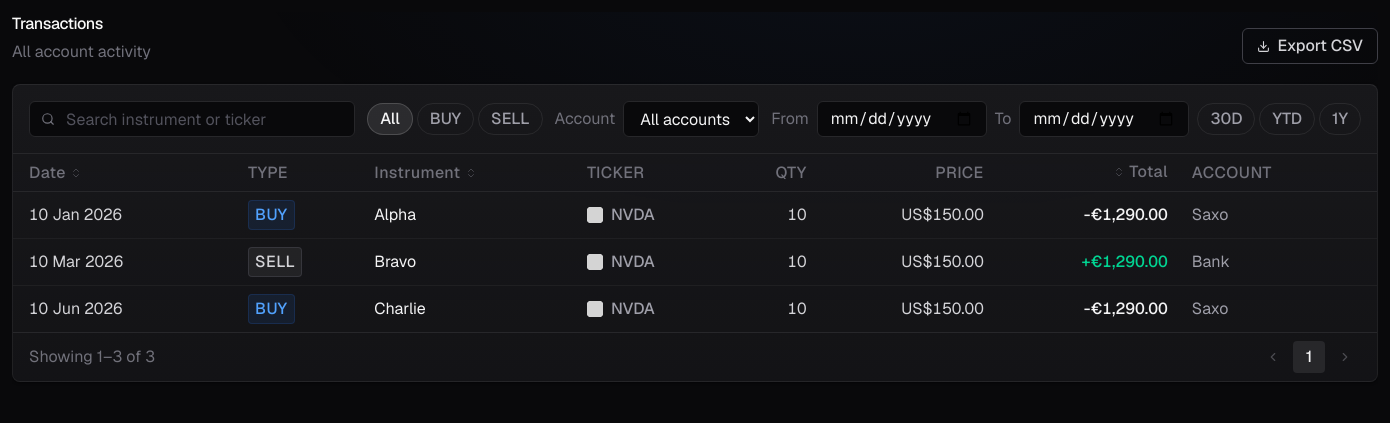
Transactions filters › edits the search text mid-word, mirrors it to the URL and empties both on Clear filters
In the field labelled "Search instrument or ticker": (192, 119) [29,101,355,137], type "AAL"
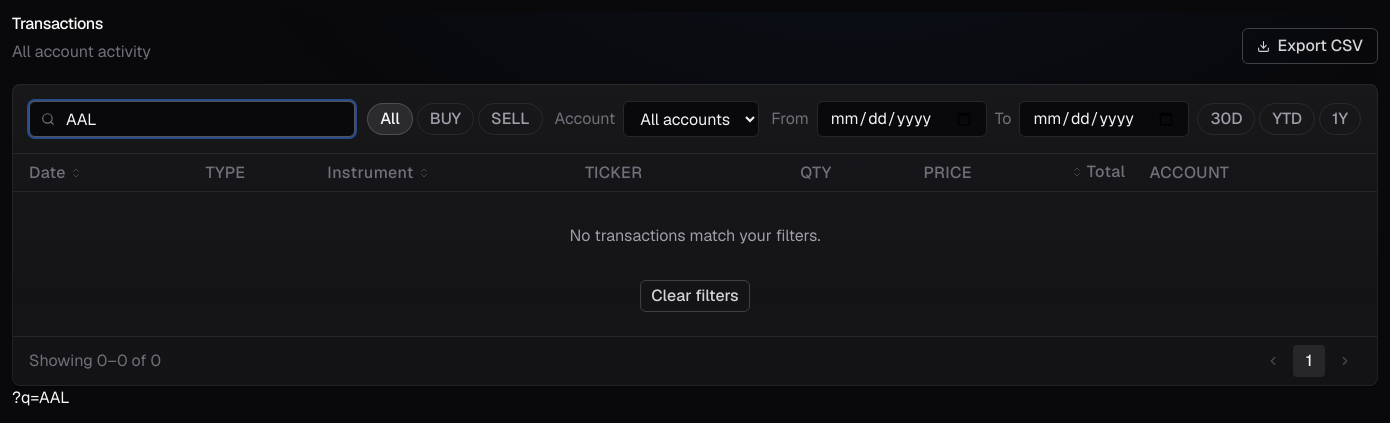
Type keys "{ArrowLeft}P"
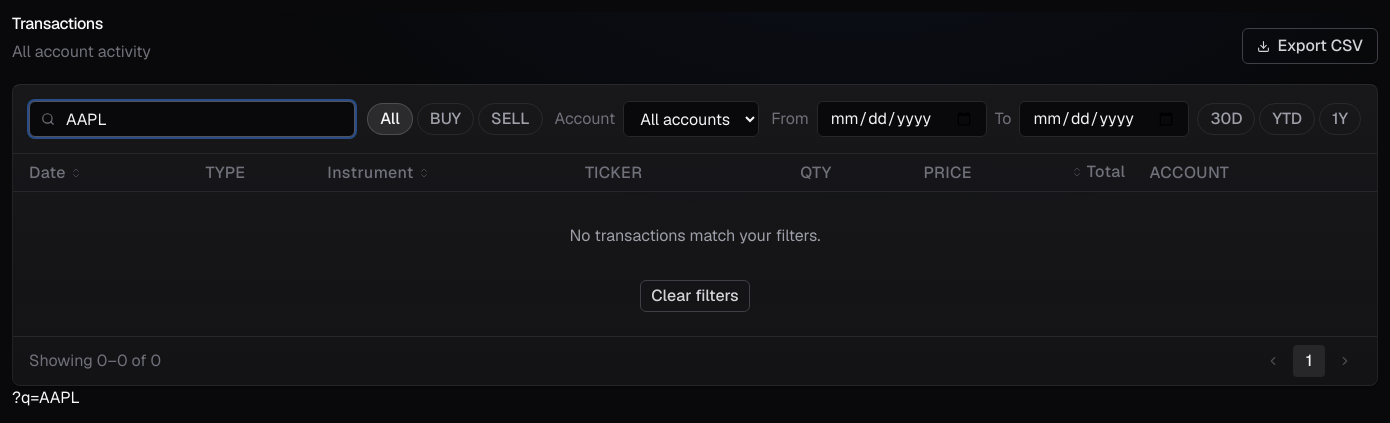
Expected: the field named "Search" holds "AAPL", [29,101,355,137]
Click the button "Clear filters": (695, 296) [640,280,750,312]
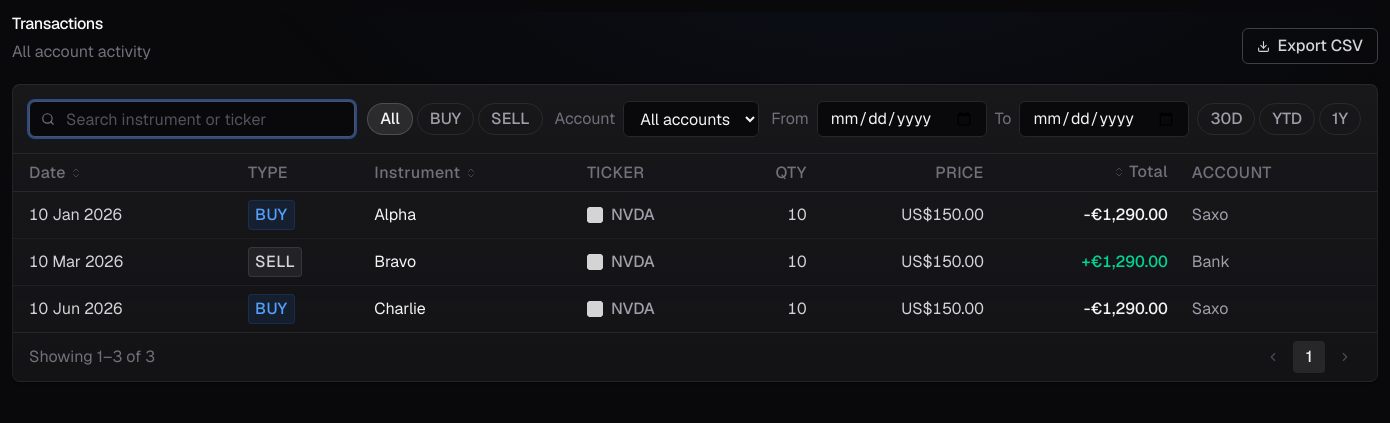
Expected: the field labelled "Search instrument or ticker" is empty, [29,101,355,137]
